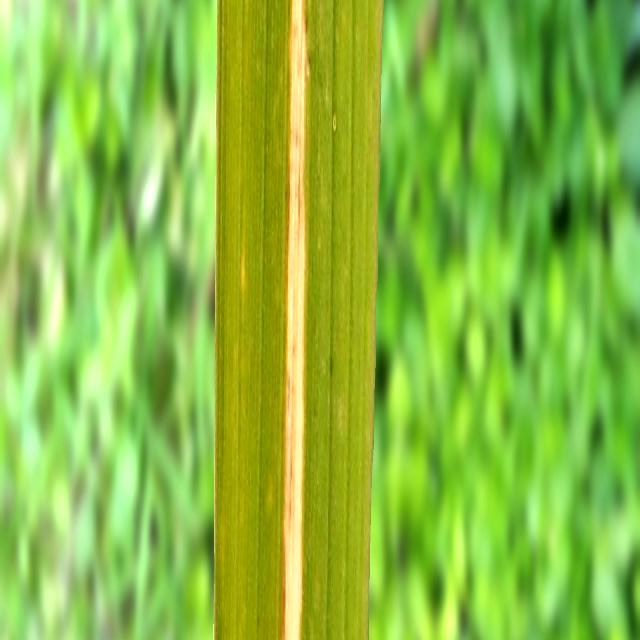BLS: (281, 0, 308, 640)
